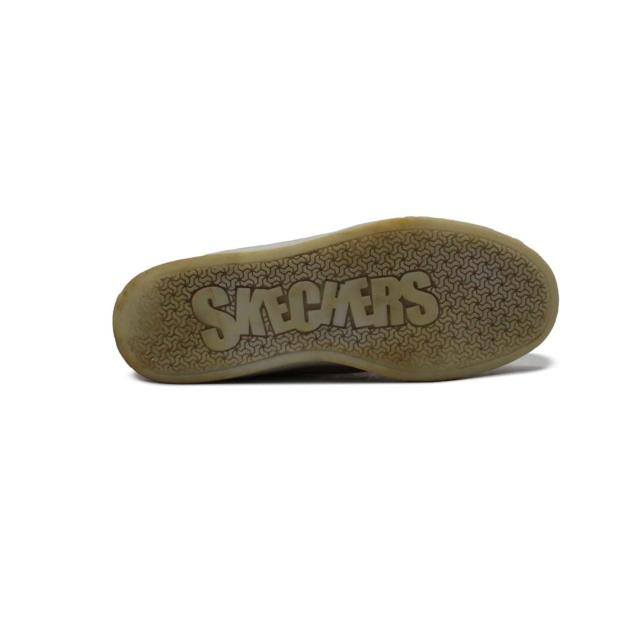outersole: (113, 215, 558, 381)
